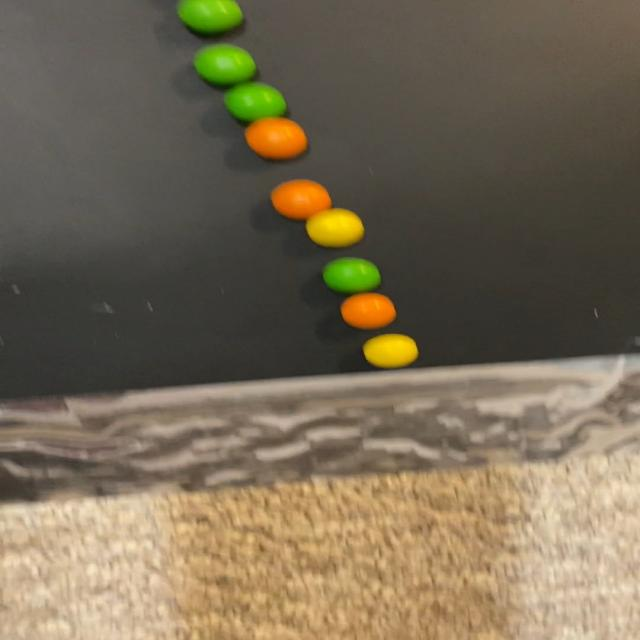smartie: (244, 116, 306, 159), (193, 43, 255, 84), (223, 81, 286, 120), (271, 179, 331, 219), (305, 208, 364, 247), (176, 0, 242, 34), (322, 257, 380, 294), (340, 293, 395, 330), (362, 334, 418, 368)
